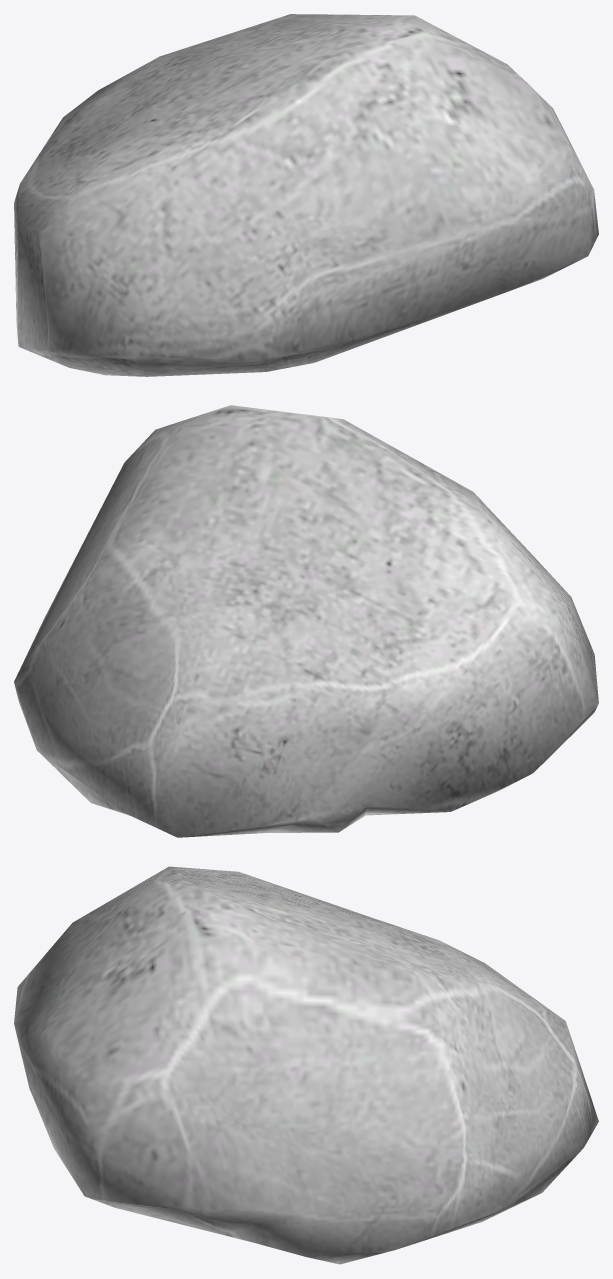
The model's file is campfire_rocks002.fbx.
3 renders of one model, top to bottom at view 1: azimuth 30°, elevation 25°; view 2: azimuth 150°, elevation 25°; view 3: azimuth 270°, elevation 25°, orthographic. The views are drawn at different scales.
Visible parts, largest first — view 1: campfire_rocks002; view 2: campfire_rocks002; view 3: campfire_rocks002.
Boxes of the visible parts, x1,y1,x2,y2 form: campfire_rocks002: (14, 14, 598, 376); campfire_rocks002: (14, 405, 598, 837); campfire_rocks002: (14, 866, 598, 1264).
Bounding box in the file's own units: 75.54 × 39.59 × 71.91.
